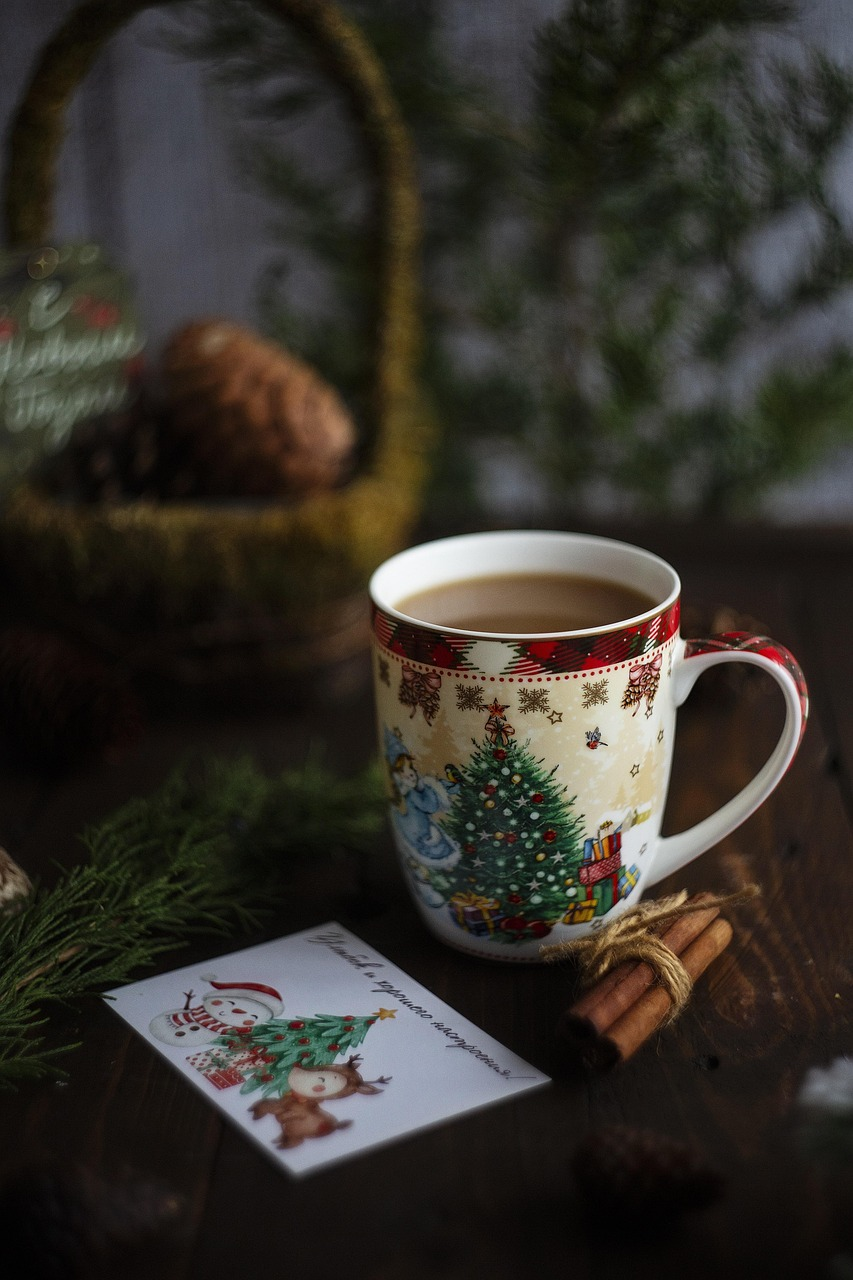mug: (216, 536, 834, 1152)
